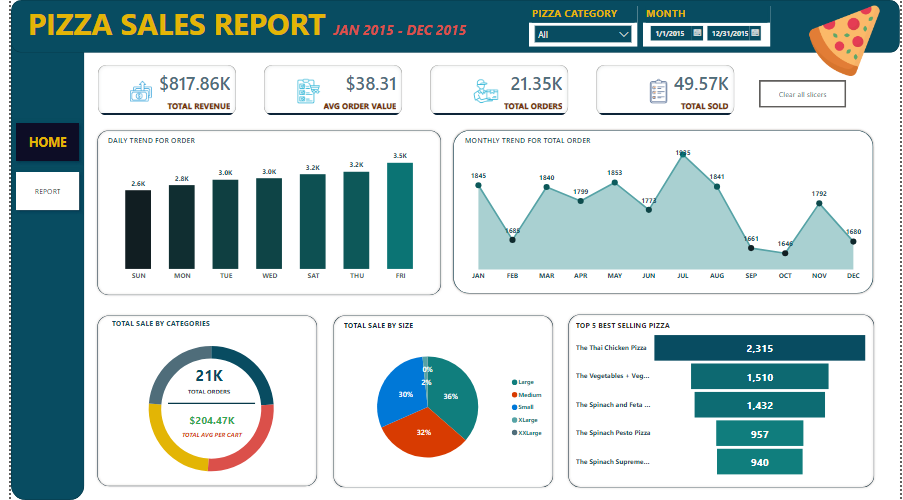

What the dashboard file says about the page in this screenshot:
{"tool":"powerbi","page":{"name":"HOME","canvas":[1600,900],"ordinal":0},"visuals":[{"type":"cardVisual","fields":{"Data":["Clean pizza_sales.TOTAL REVENUE","Clean pizza_sales.AVG ORDER VALUE","Clean pizza_sales.TOTAL ORDERS","Clean pizza_sales.TOTAL SOLD"]},"box":[151.8,110.7,1158.9,101.8],"z":0},{"type":"shape","box":[0,0,132.1,900],"z":1000},{"type":"shape","box":[792.9,230.4,764.3,301.8],"z":2000},{"type":"shape","box":[151.8,230.4,626.8,305.4],"z":3000},{"type":"clusteredColumnChart","title":"DAILY TREND FOR ORDER","fields":{"Category":["Clean pizza_sales.ORDER DAY"],"Y":["Clean pizza_sales.TOTAL ORDERS"]},"box":[169.6,242.9,592.9,271.4],"z":4000},{"type":"areaChart","title":"MONTHLY TREND FOR TOTAL ORDER","fields":{"Category":["Clean pizza_sales.Month Int"],"Y":["Clean pizza_sales.TOTAL ORDERS"]},"box":[812.5,242.9,733.9,271.4],"z":5000},{"type":"shape","box":[998.2,560.7,558.9,319.6],"z":6000},{"type":"shape","box":[576.8,564.3,403.6,317.9],"z":7000},{"type":"donutChart","title":"TOTAL  SALE BY CATEGORIES","fields":{"Category":["Clean pizza_sales.pizza_category"],"Y":["Clean pizza_sales.TOTAL REVENUE"]},"box":[176.9,572,368.1,308.5],"z":8000},{"type":"shape","box":[0,0,1600,94.6],"z":9000},{"type":"image","box":[1398.2,1.8,201.8,142.9],"z":10000},{"type":"textbox","box":[25,0,1251.8,94.6],"z":11000},{"type":"card","fields":{"Values":["Clean pizza_sales.TOTAL ORDERS"]},"box":[298.2,652.8,114.9,59.6],"z":12000},{"type":"funnel","title":"TOP 5 BEST SELLING PIZZA","fields":{"Y":["CountNonNull(Clean pizza_sales.unit_price)"],"Category":["Clean pizza_sales.pizza_name"]},"box":[1010.7,576.8,535.7,287.5],"z":13000},{"type":"shape","box":[283.3,576.3,157.4,300],"z":14000},{"type":"shape","box":[151.8,564.3,403.6,316.1],"z":15000},{"type":"card","title":"AVG REVENUE","fields":{"Values":["Clean pizza_sales.TOTAL average per pizza_category 2"]},"box":[264.2,723.1,193.6,83],"z":16000},{"type":"pieChart","title":"TOTAL SALE BY SIZE","fields":{"Y":["Clean pizza_sales.TOTAL ORDERS"],"Category":["Clean pizza_sales.pizza_size"]},"box":[594.6,576.8,375,296.4],"z":17000},{"type":"slicer","title":"PIZZA CATEGORY","fields":{"Values":["Clean pizza_sales.pizza_category"]},"box":[932.1,10.7,194.6,73.2],"z":18000},{"type":"slicer","title":"MONTH","fields":{"Values":["Clean pizza_sales.order_date"]},"box":[1137.5,10.7,228.6,73.2],"z":19000},{"type":"actionButton","box":[1346.4,144.6,157.1,50],"z":20000},{"type":"pageNavigator","box":[0,212.5,132.1,87.5],"z":21000},{"type":"pageNavigator","box":[0,300,132.1,87.5],"z":22001}]}

Visuals, with their boxes in screenshot pixels (x1, y1, x2, y2), scaled from the page's 1600x900 canvas onto the 903x500 screenshot:
cardVisual - Clean pizza_sales.TOTAL REVENUE x Clean pizza_sales.AVG ORDER VALUE: bbox=[86, 62, 740, 118]
shape: bbox=[0, 0, 75, 499]
shape: bbox=[447, 128, 879, 296]
shape: bbox=[86, 128, 439, 298]
"DAILY TREND FOR ORDER" clusteredColumnChart: bbox=[96, 135, 430, 286]
"MONTHLY TREND FOR TOTAL ORDER" areaChart: bbox=[459, 135, 873, 286]
shape: bbox=[563, 312, 879, 489]
shape: bbox=[326, 314, 553, 490]
"TOTAL  SALE BY CATEGORIES" donutChart: bbox=[100, 318, 308, 489]
shape: bbox=[0, 0, 902, 53]
image: bbox=[789, 1, 902, 80]
textbox: bbox=[14, 0, 721, 53]
card - Clean pizza_sales.TOTAL ORDERS: bbox=[168, 363, 233, 396]
"TOP 5 BEST SELLING PIZZA" funnel: bbox=[570, 320, 873, 480]
shape: bbox=[160, 320, 249, 487]
shape: bbox=[86, 314, 313, 489]
"AVG REVENUE" card: bbox=[149, 402, 258, 448]
"TOTAL SALE BY SIZE" pieChart: bbox=[336, 320, 547, 485]
"PIZZA CATEGORY" slicer: bbox=[526, 6, 636, 47]
"MONTH" slicer: bbox=[642, 6, 771, 47]
actionButton: bbox=[760, 80, 849, 108]
pageNavigator: bbox=[0, 118, 75, 167]
pageNavigator: bbox=[0, 167, 75, 215]
